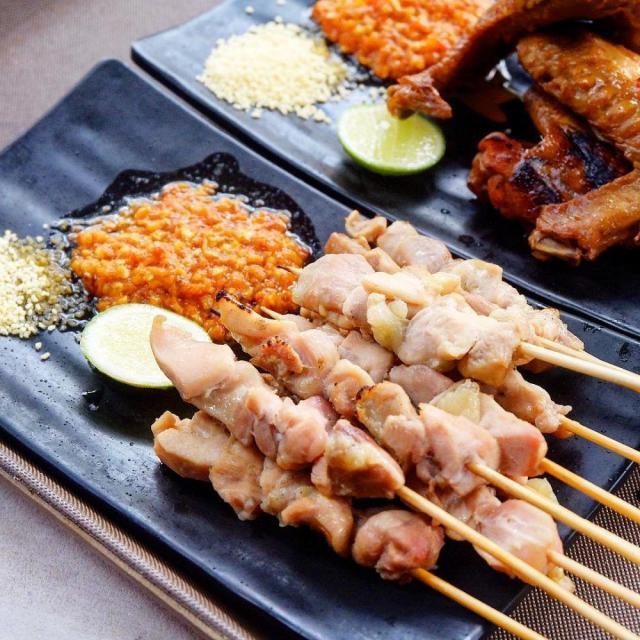Sate: (208, 256, 619, 637)
